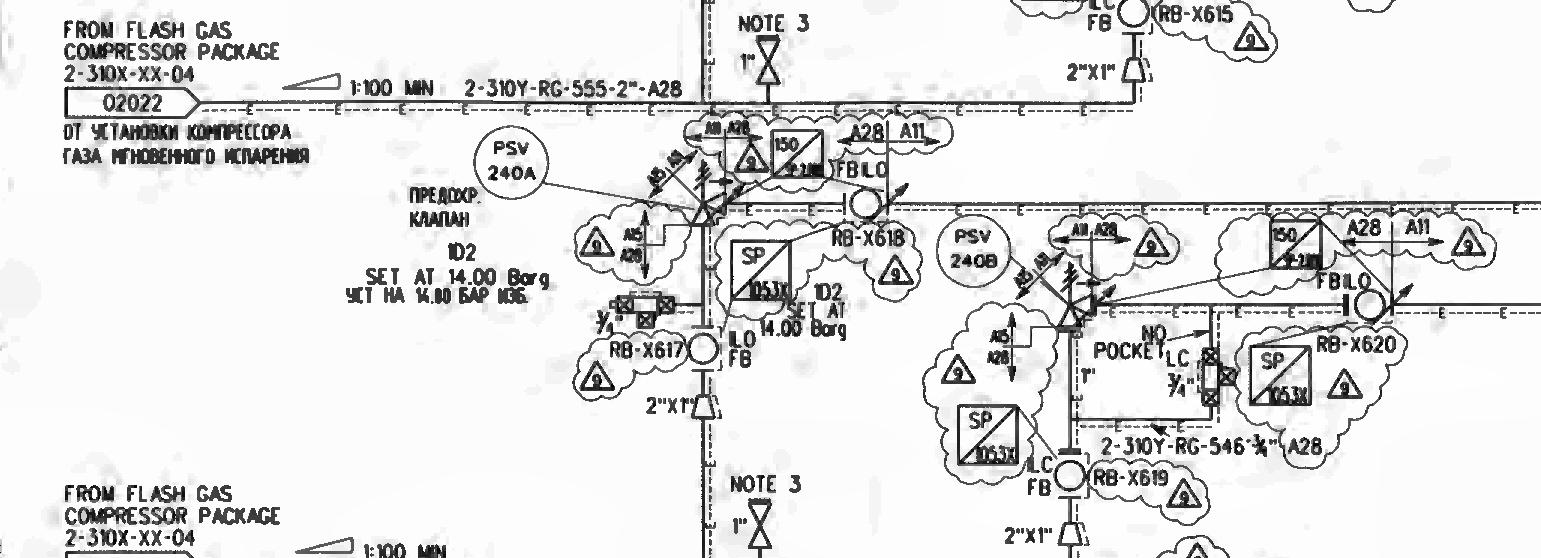2 WAY VALVE: (596, 286, 688, 334), (1188, 342, 1242, 421)
ANGLE RELIEF VALVE: (1054, 252, 1110, 349), (682, 148, 739, 236)
CONCENTRIC REDUCER: (684, 390, 731, 430), (1118, 52, 1156, 90), (1056, 514, 1094, 550)
FIELD INSTRUMENT: (468, 120, 554, 205), (932, 208, 1018, 291), (1350, 280, 1395, 329), (846, 180, 890, 229), (1046, 452, 1094, 495), (686, 330, 724, 374), (1117, 0, 1150, 31)
GATE VALVE: (750, 28, 788, 94), (744, 488, 780, 554)
REVISION TRIANGLE: (1127, 218, 1173, 272), (1233, 12, 1282, 61), (577, 219, 623, 271), (1442, 219, 1491, 266), (876, 248, 923, 296), (1326, 364, 1377, 406), (570, 357, 620, 398), (1166, 476, 1206, 514)
SPECIAL PIPING ITEM: (722, 230, 802, 308), (952, 392, 1024, 474), (1248, 340, 1324, 412), (1259, 208, 1331, 280), (764, 120, 830, 184), (1346, 272, 1393, 334)
